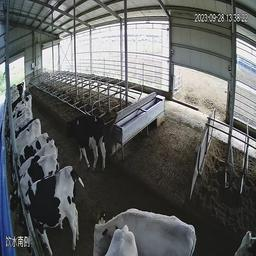cow: (79, 181, 171, 250), (19, 164, 83, 249), (206, 208, 254, 256), (58, 112, 98, 169), (6, 157, 57, 197), (6, 130, 56, 163), (7, 110, 41, 140), (6, 94, 33, 118), (5, 78, 30, 101)
